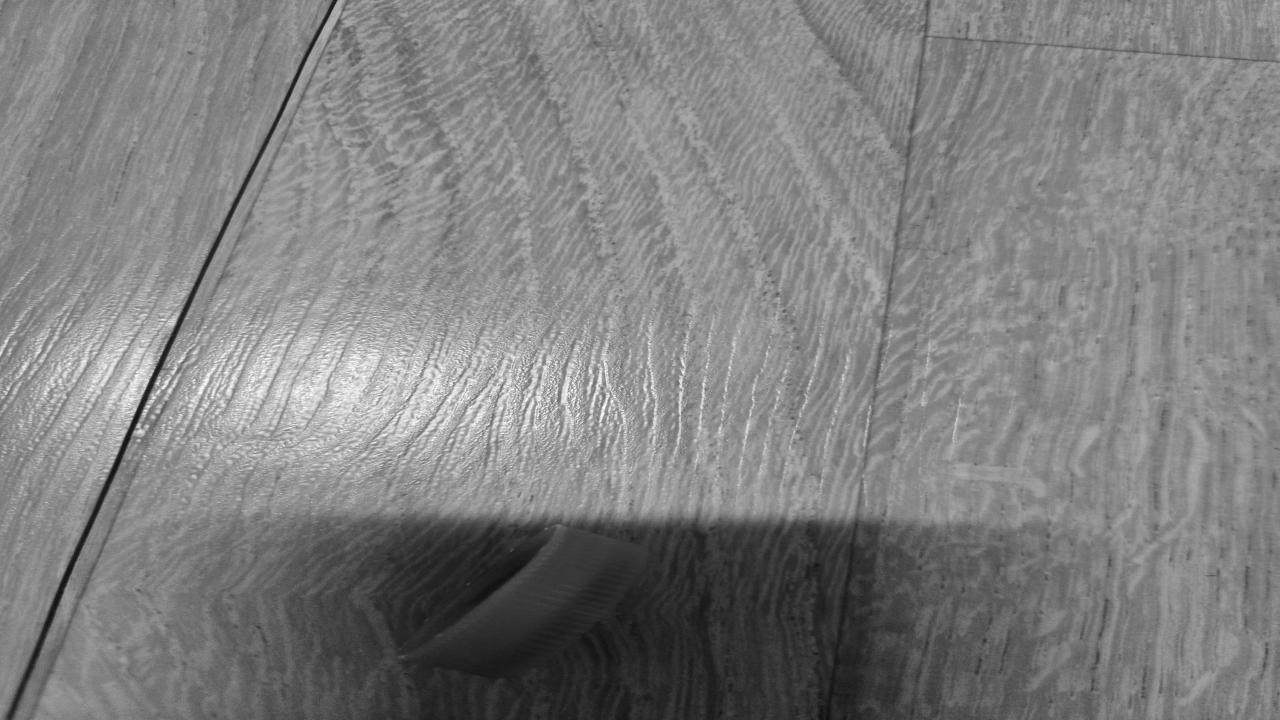bottle_cap: (386, 519, 662, 679)
